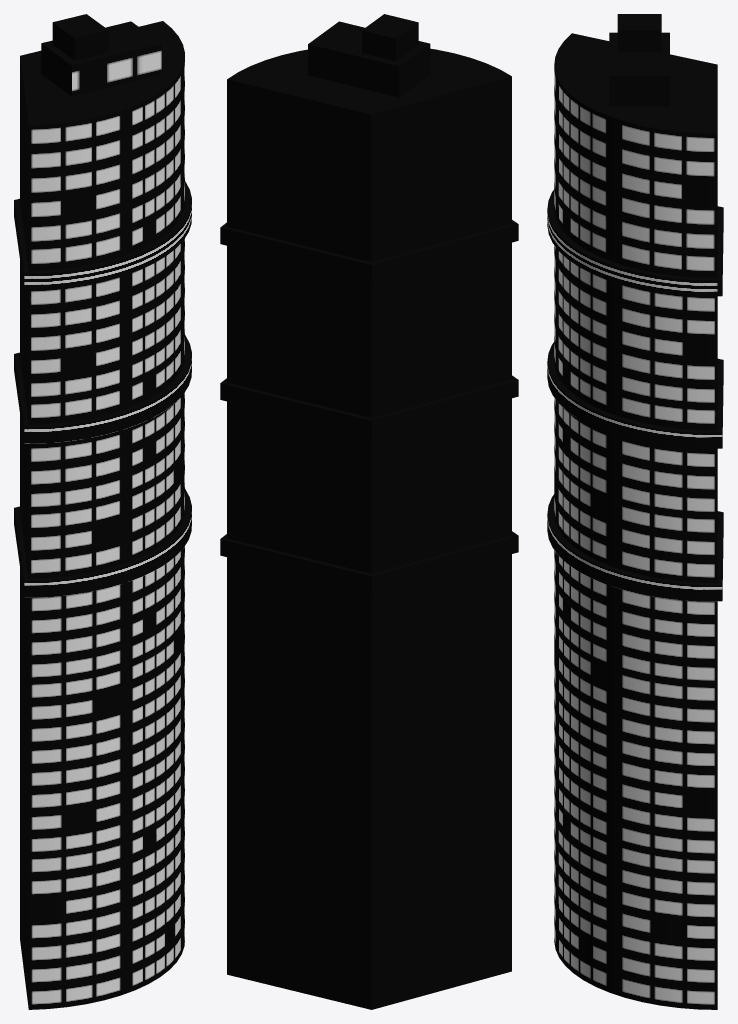
Rendered from building_01.FBX.
The picture shows the model from 3 angles, left to right: view 1: azimuth 30°, elevation 25°; view 2: azimuth 150°, elevation 25°; view 3: azimuth 270°, elevation 25°; orthographic projection. The views are drawn at different scales.
Visible parts, largest first — view 1: building_01; view 2: building_01; view 3: building_01.
Part boxes in pixels (x1,y1,x2,y2): building_01: (14, 14, 191, 1009); building_01: (220, 14, 518, 1009); building_01: (547, 14, 723, 1009).
Bounding box in the file's own units: 160 × 656 × 113.
